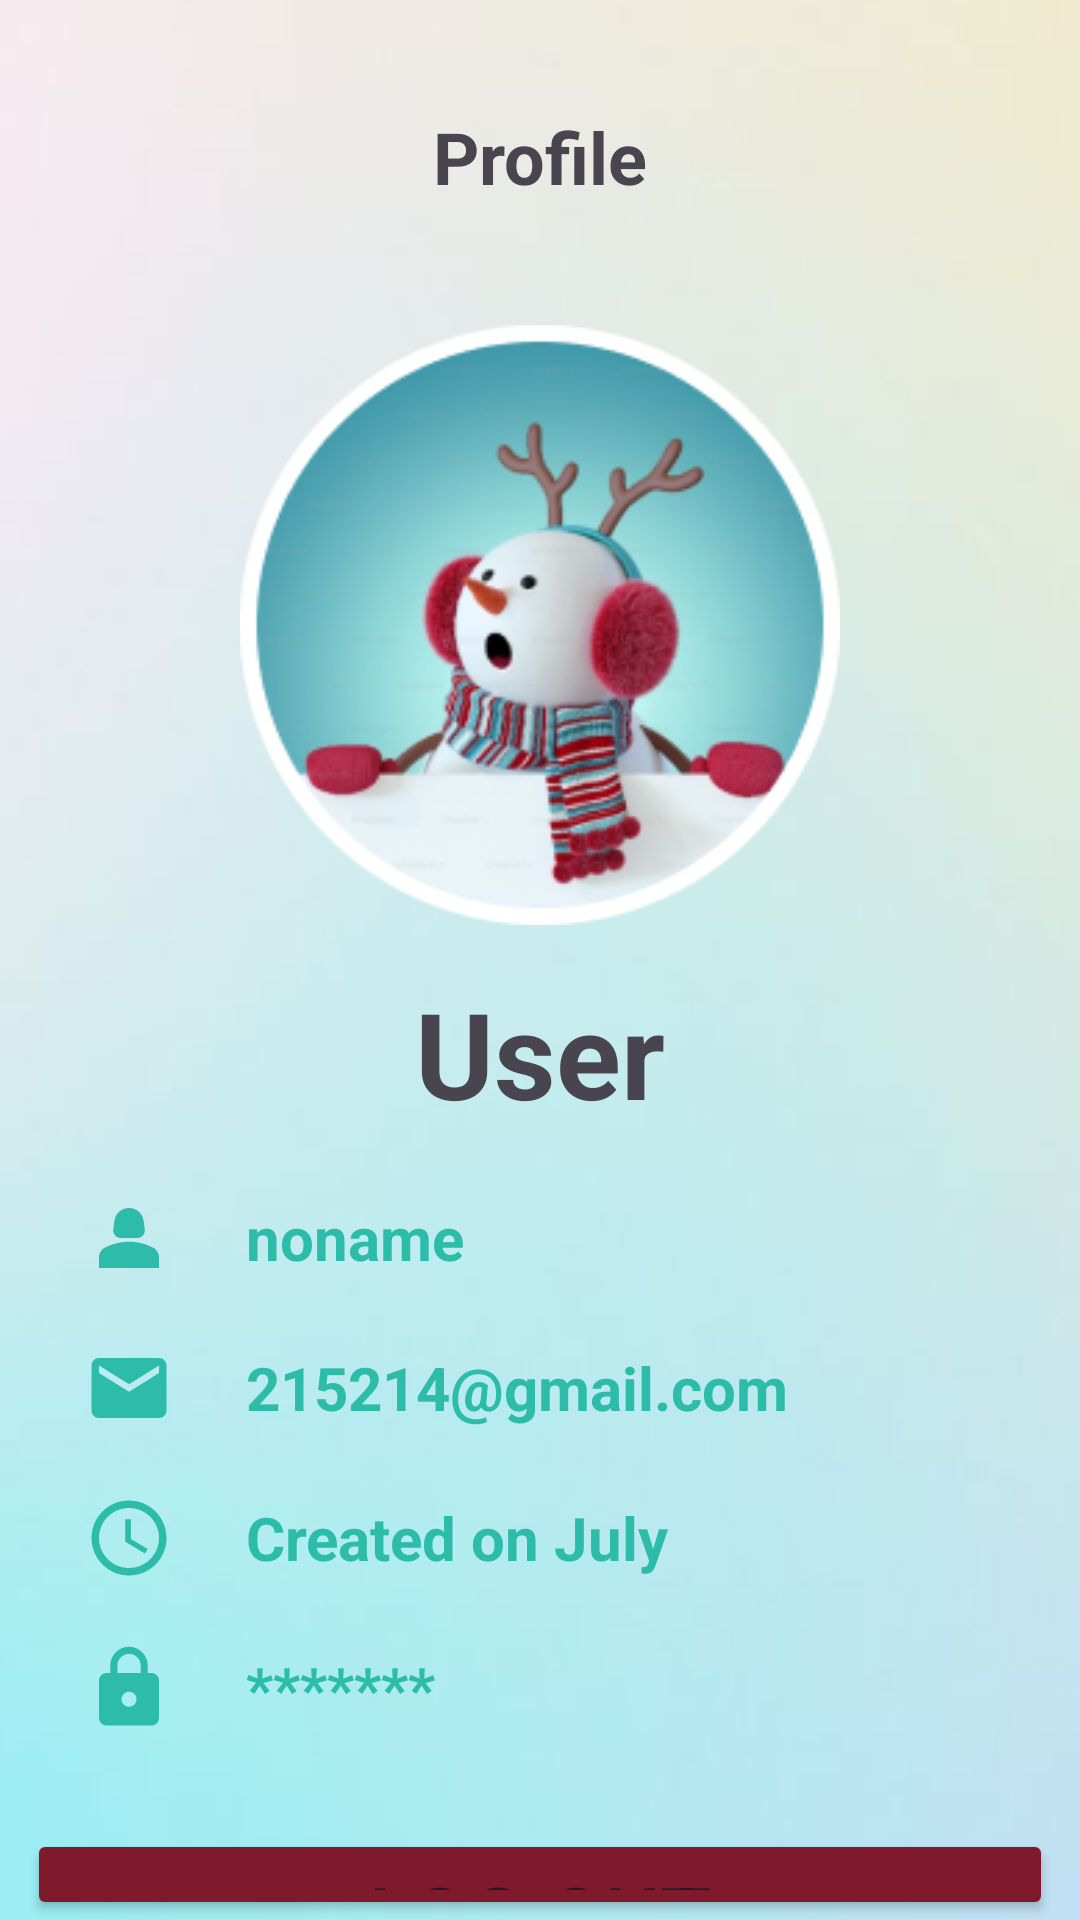

Screen size 1080px×1920px. Icon name, then its box in pixels as rect(x1, y1, x2, y2):
access time: rect(91, 1500, 167, 1576)
lock: rect(99, 1646, 159, 1726)
person: rect(99, 1208, 159, 1268)
